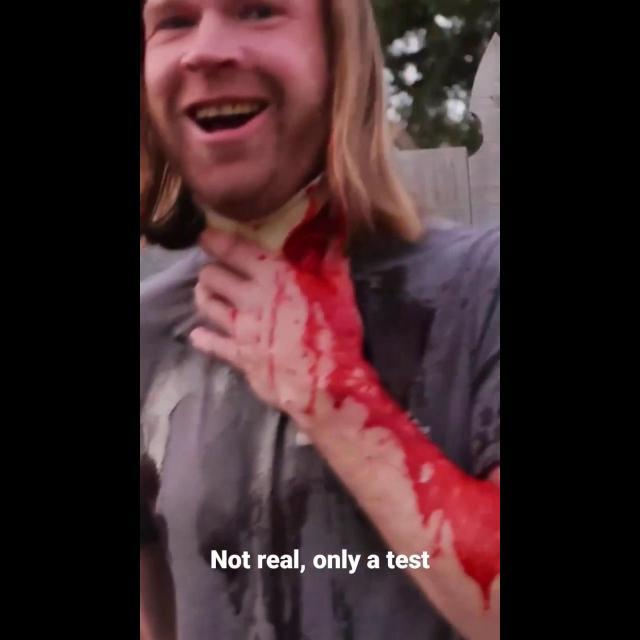blood: (231, 185, 500, 616)
